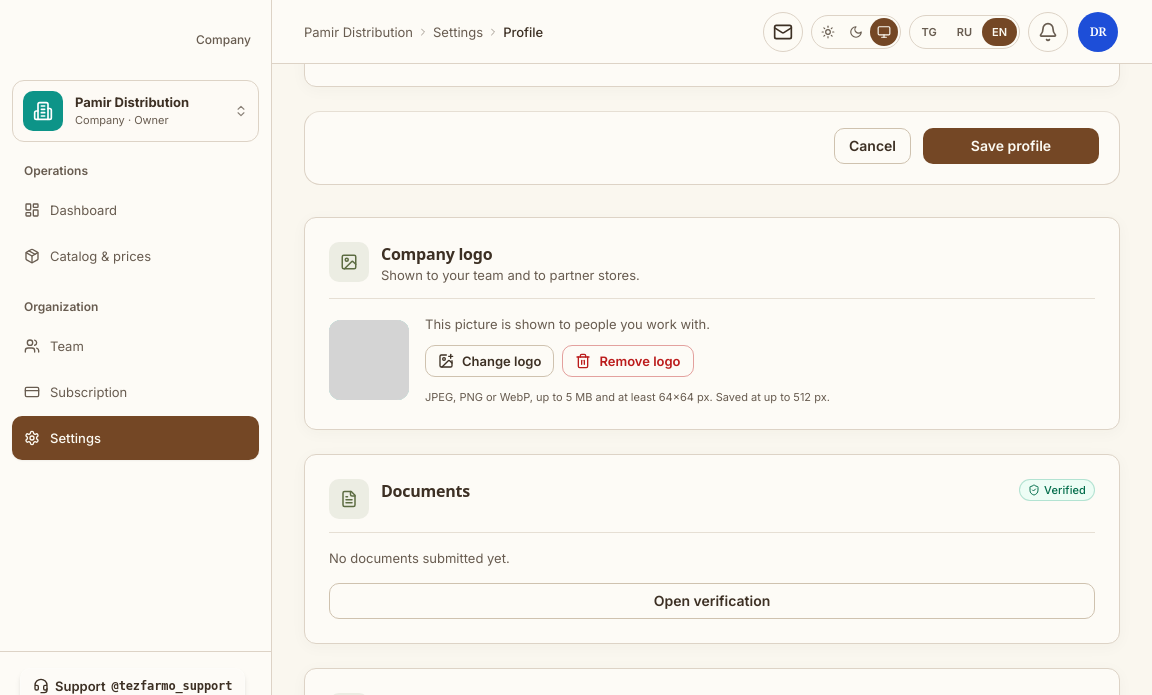
Test: organization image (CR-003 PUT/DELETE /organization/logo) › removes the logo after confirmation and shows the mark again
The image size is (1152, 695).
(page scrolled)
Click the button "Remove logo" at (628, 361), box x1=562 y1=345 x2=694 y2=377
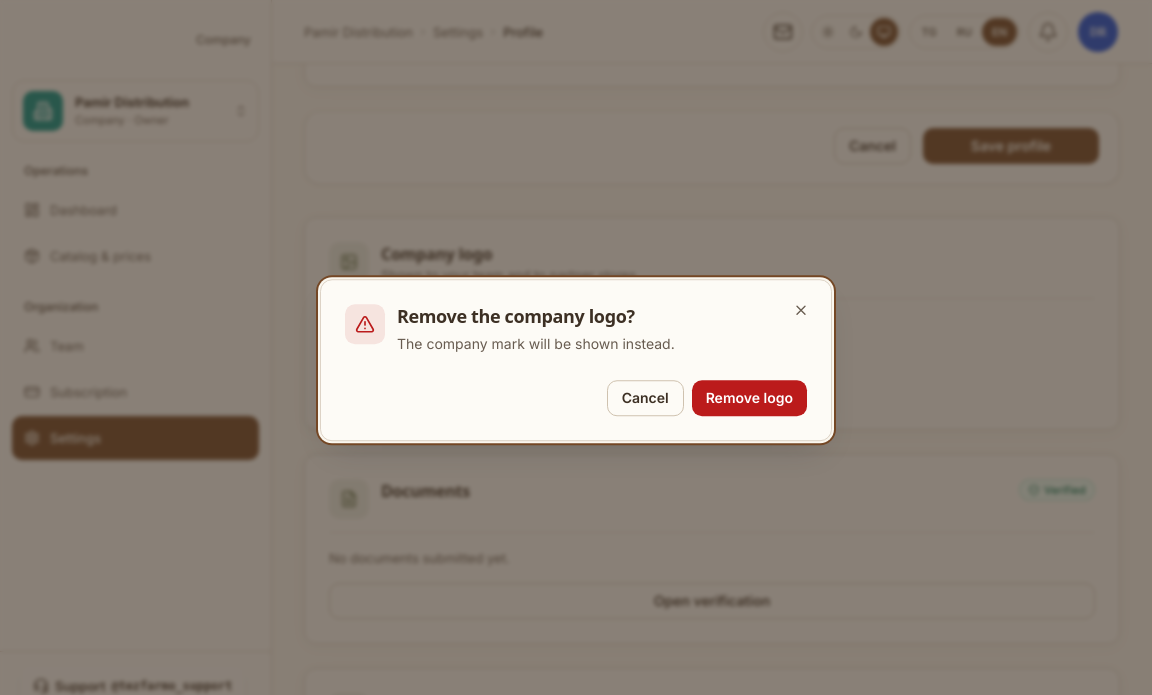
Click the button "Remove logo" at (749, 398), box x1=692 y1=380 x2=807 y2=416
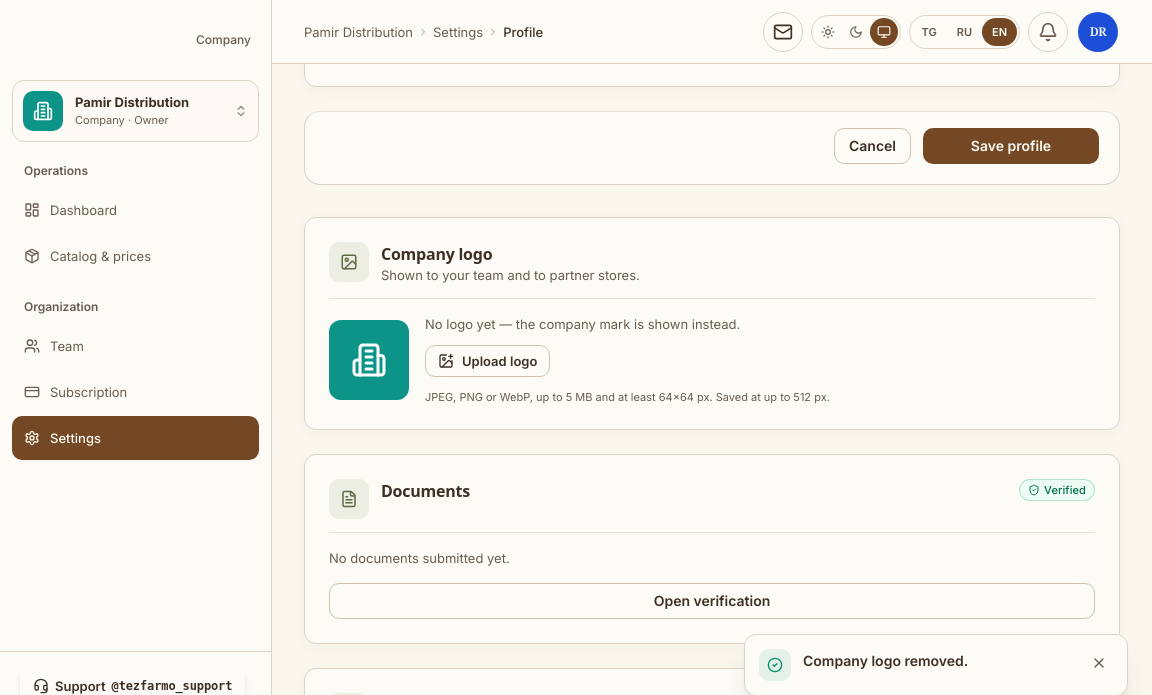
Now the text "Company logo removed." is shown, box x1=803 y1=652 x2=968 y2=669
Now the text "No logo yet — the company mark is shown instead." is shown, box x1=425 y1=316 x2=740 y2=332
